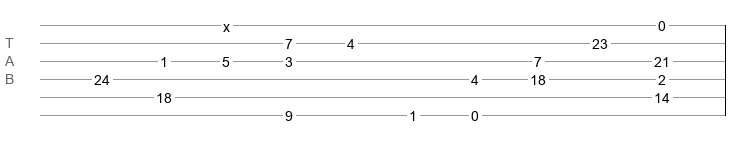0: (471, 108, 479, 118), (658, 18, 666, 28)
1: (160, 54, 168, 64), (409, 108, 417, 118)
14: (654, 90, 670, 100)
18: (156, 90, 172, 100), (530, 72, 546, 82)
2: (658, 72, 666, 82)
21: (654, 54, 670, 64)
23: (592, 36, 608, 46)
24: (94, 72, 110, 82)
3: (285, 54, 293, 64)
4: (347, 36, 355, 46), (471, 72, 479, 82)
5: (222, 54, 230, 64)
7: (285, 36, 293, 46), (534, 54, 542, 64)
9: (285, 108, 293, 118)
x: (223, 19, 230, 27)
